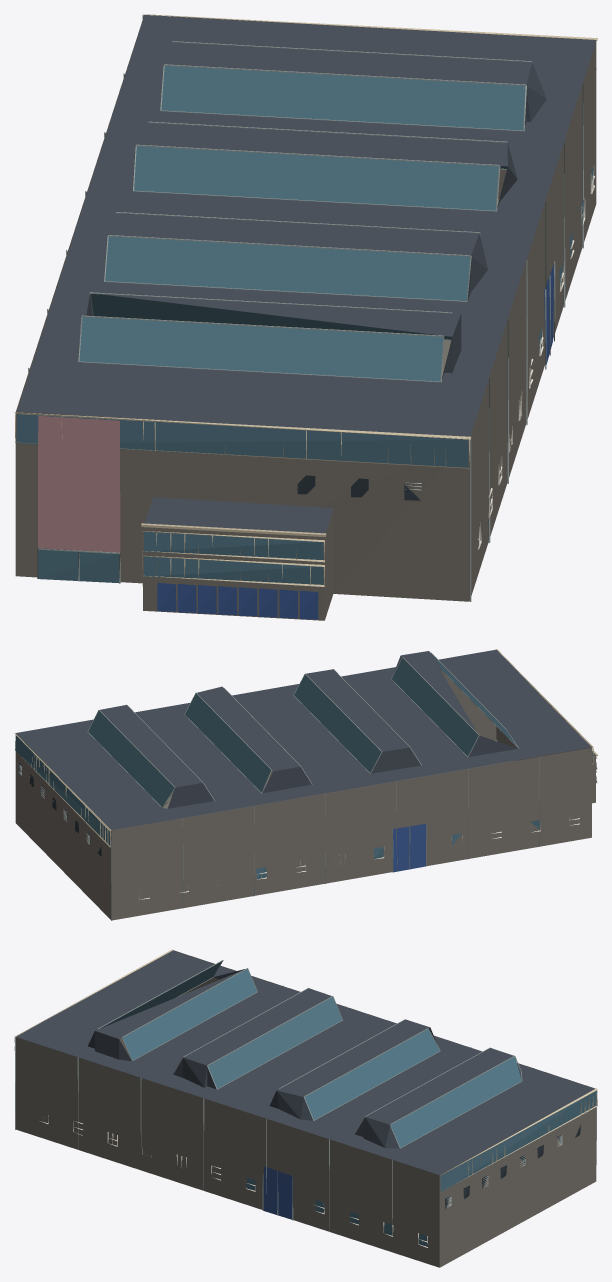
The model's file is straat-museum.lod1.glb.
The picture shows the model from 3 angles, top to bottom: view 1: azimuth 30°, elevation 25°; view 2: azimuth 150°, elevation 25°; view 3: azimuth 270°, elevation 25°; orthographic projection. The views are drawn at different scales.
Visible parts, largest first — view 1: straat-museum; view 2: straat-museum; view 3: straat-museum.
Part boxes in pixels (<box>): straat-museum: <box>14,14,597,620</box>; straat-museum: <box>14,649,597,920</box>; straat-museum: <box>14,949,597,1267</box>.
Size of the model in its own units: 118 by 27.67 by 129.
